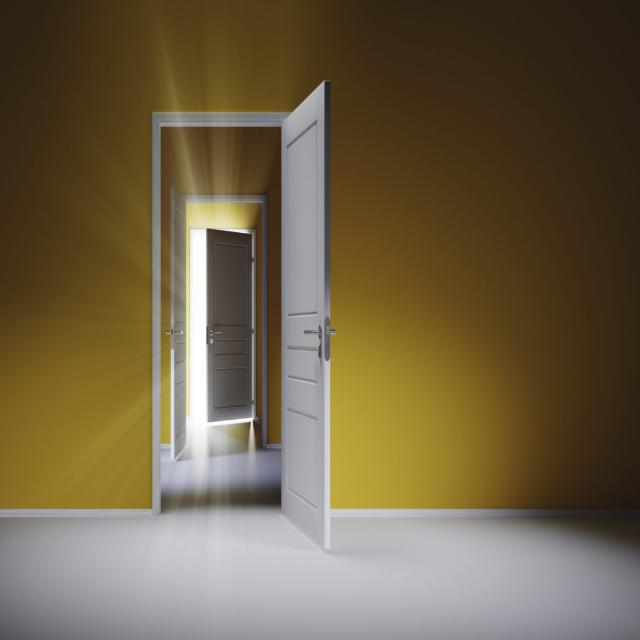open: (152, 115, 332, 547), (174, 195, 270, 452), (189, 226, 258, 430)
